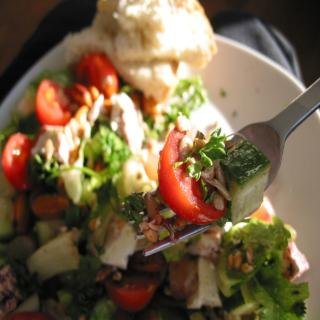tomato: (157, 122, 217, 224), (1, 132, 34, 193), (34, 79, 75, 128), (78, 54, 122, 98), (103, 282, 155, 311)
